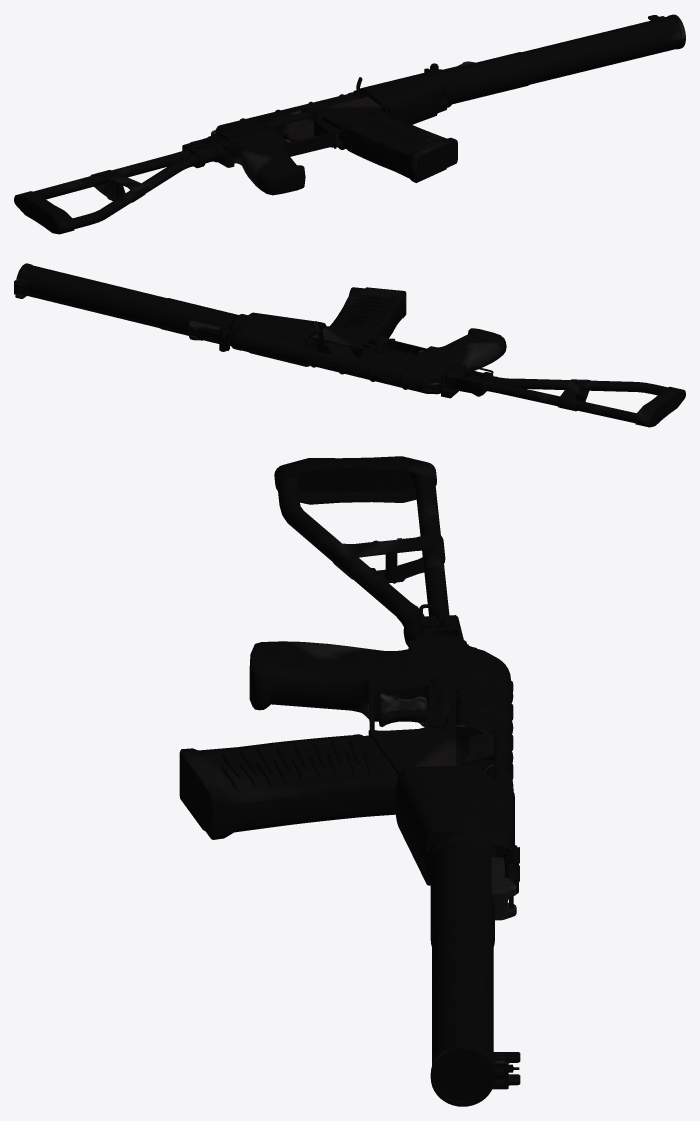
File: asval.obj
3 renders of one model, top to bottom at view 1: azimuth 30°, elevation 25°; view 2: azimuth 150°, elevation 25°; view 3: azimuth 270°, elevation 25°, orthographic. The views are drawn at different scales.
Parts seen in each view (by area): view 1: gunModel, ammoModel; view 2: gunModel, ammoModel, slideModel; view 3: gunModel, ammoModel, slideModel.
Boxes of the visible parts, x1=… form: gunModel: x1=14, y1=14, x2=685, y2=234; ammoModel: x1=338, y1=110, x2=457, y2=182; gunModel: x1=14, y1=263, x2=685, y2=427; ammoModel: x1=330, y1=287, x2=406, y2=337; slideModel: x1=314, y1=321, x2=359, y2=360; gunModel: x1=249, y1=456, x2=520, y2=1106; ammoModel: x1=179, y1=734, x2=398, y2=839; slideModel: x1=456, y1=728, x2=494, y2=765.
Bounding box in the file's own units: 37.21 × 2.59 × 8.88.
